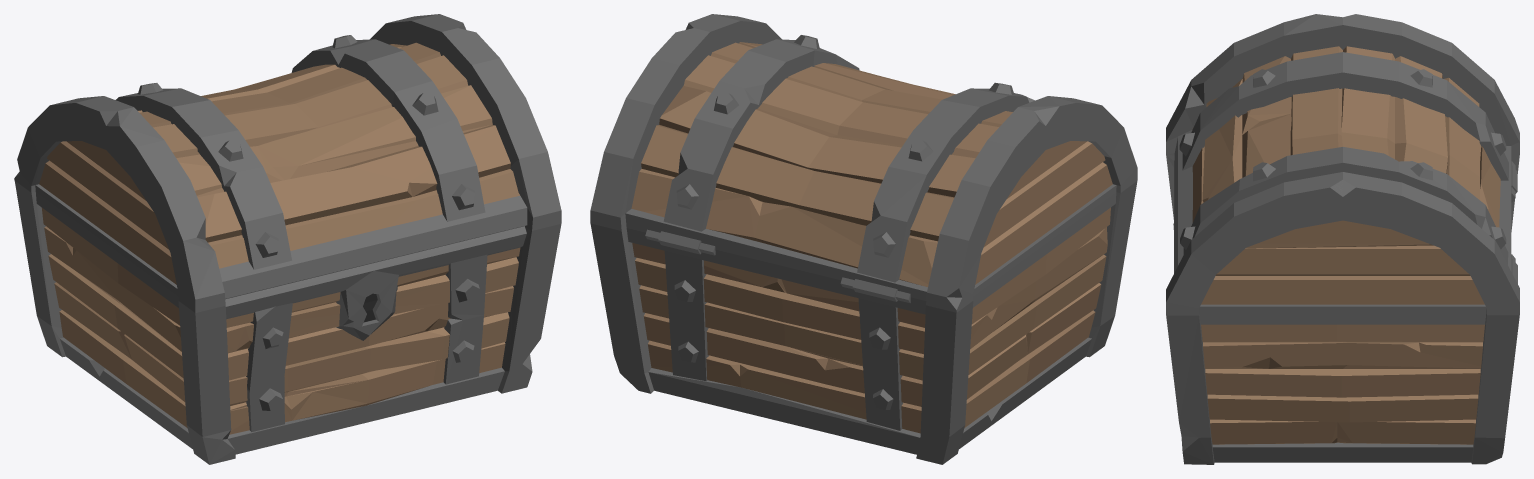
File: Treasure Chest.fbx
3 views of the same model, side by side, from view 1: azimuth 30°, elevation 25°; view 2: azimuth 150°, elevation 25°; view 3: azimuth 270°, elevation 25° (orthographic). The views are drawn at different scales.
Parts seen in each view (by area): view 1: Treasure Chest Lid, Treasure Chest; view 2: Treasure Chest Lid, Treasure Chest; view 3: Treasure Chest Lid, Treasure Chest.
Part boxes in pixels (<box>): Treasure Chest Lid: <box>14,14,561,312</box>; Treasure Chest: <box>14,181,561,464</box>; Treasure Chest Lid: <box>590,14,1137,312</box>; Treasure Chest: <box>590,181,1137,464</box>; Treasure Chest Lid: <box>1166,14,1519,315</box>; Treasure Chest: <box>1166,155,1519,464</box>.
Bounding box in the file's own units: 1.87 × 1.46 × 1.6.
